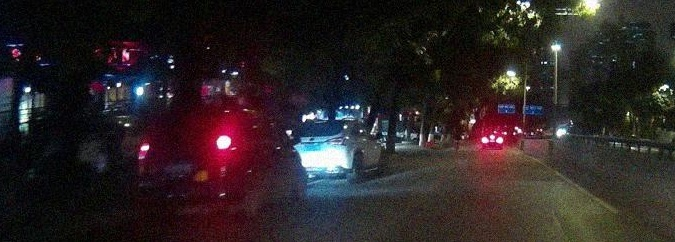L_light: (137, 143, 150, 160)
R_light: (215, 134, 233, 150)
T_light: (177, 118, 191, 121)
night-right: (133, 114, 240, 203)
